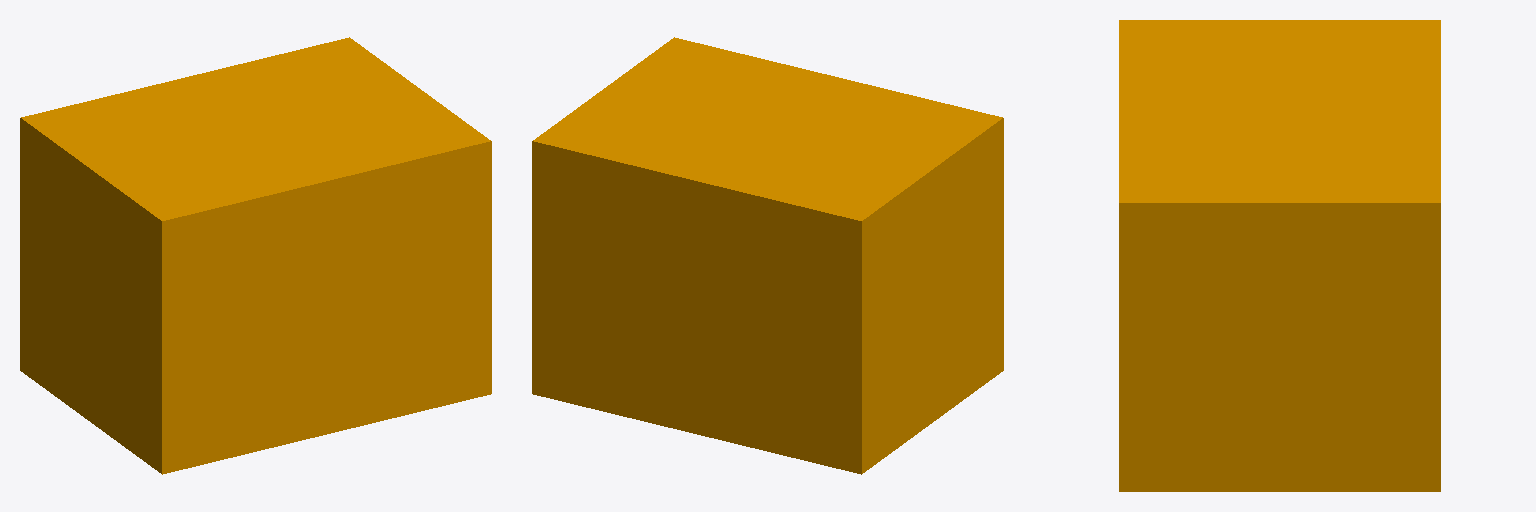
The robot description file, URDF, robot "object":
<?xml version="1.0"?>
<!-- Auto-generated by tools/gen_primitive_objects.py. kind=box dims=(0.08359, 0.062324, 0.061424) -->
<robot name="object">
  <link name="object">
    <visual>
      <origin xyz="0 0 0"/>
      <geometry>
        <box size="0.083590 0.062324 0.061424"/>
      </geometry>
    </visual>
    <collision>
      <origin xyz="0 0 0"/>
      <geometry>
        <box size="0.083590 0.062324 0.061424"/>
      </geometry>
    </collision>
    <inertial>
      <mass value="0.064000"/>
      <inertia ixx="0.00004084" ixy="0.0" ixz="0.0" iyy="0.00005739" iyz="0.0" izz="0.00005798"/>
    </inertial>
  </link>
</robot>

--- Facts derived from the render (not from the file) ---
Views: 3 orthographic renders of the robot side by side, from view 1: azimuth 30°, elevation 25°; view 2: azimuth 150°, elevation 25°; view 3: azimuth 270°, elevation 25°.
Robot: object — 1 links, 0 joints (none); root link object; default pose: every joint at zero.
Links seen in each view (by area): view 1: object; view 2: object; view 3: object.
Link boxes in pixels (box(x1,y1,x2,y2)): object: box(20, 37, 491, 474); object: box(532, 37, 1003, 474); object: box(1119, 20, 1440, 491).
Bounding box of the posed robot: 0.0836 × 0.0623 × 0.0614 m (x, y, z).
Geometry: primitives only (box / cylinder / sphere), no mesh files.
